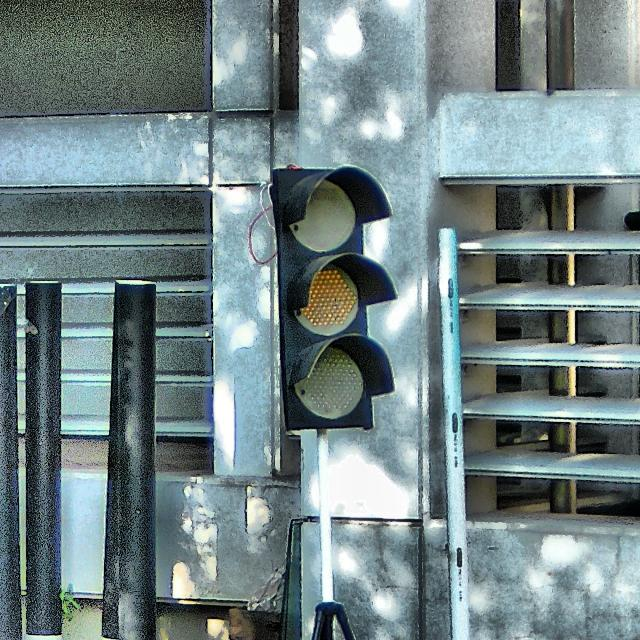yellow: (269, 165, 396, 432)
